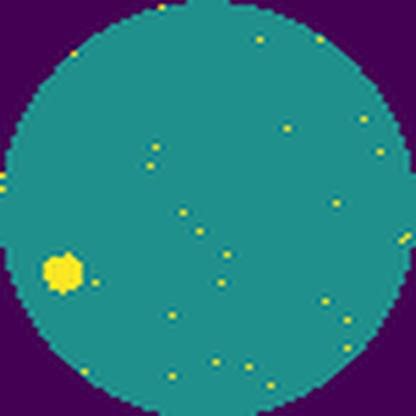Loc: (40, 250, 86, 295)
